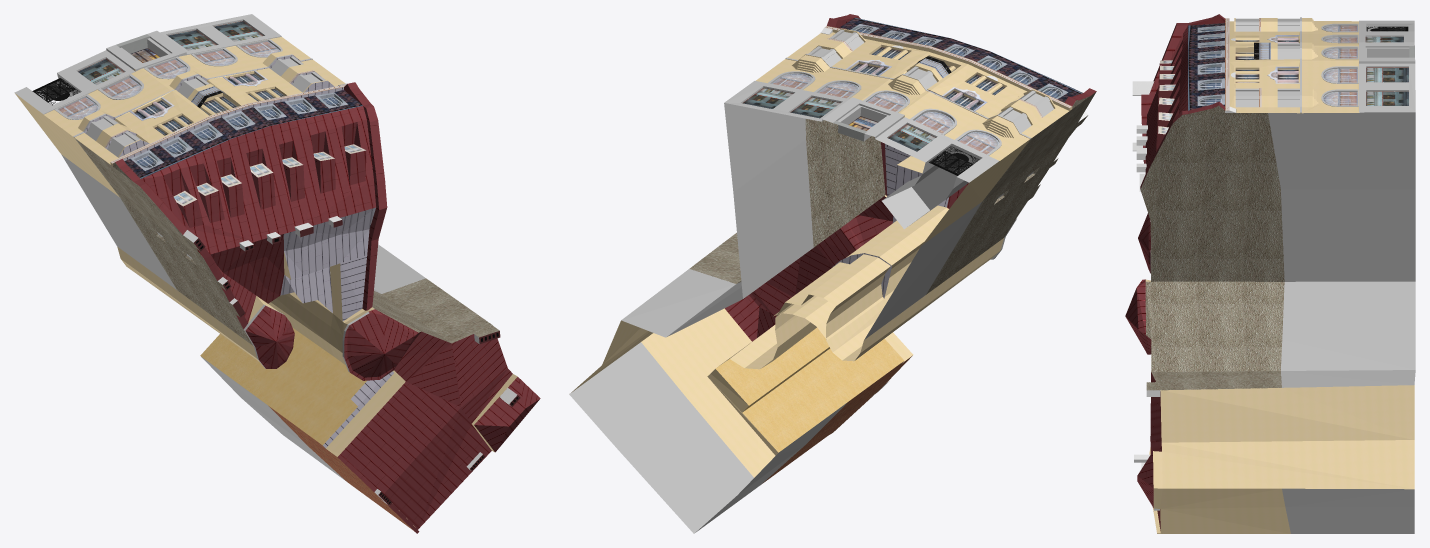
File: Viru_4.obj
3 renders of one model, left to right at view 1: azimuth 30°, elevation 25°; view 2: azimuth 150°, elevation 25°; view 3: azimuth 270°, elevation 25°, orthographic. The views are drawn at different scales.
Parts seen in each view (by area): view 1: Viru_4; view 2: Viru_4; view 3: Viru_4.
Boxes of the visible parts, x1=… form: Viru_4: x1=14, y1=14, x2=540, y2=533; Viru_4: x1=569, y1=14, x2=1096, y2=533; Viru_4: x1=1125, y1=14, x2=1415, y2=533.
Bounding box in the file's own units: 38.17 × 40.95 × 25.72.
